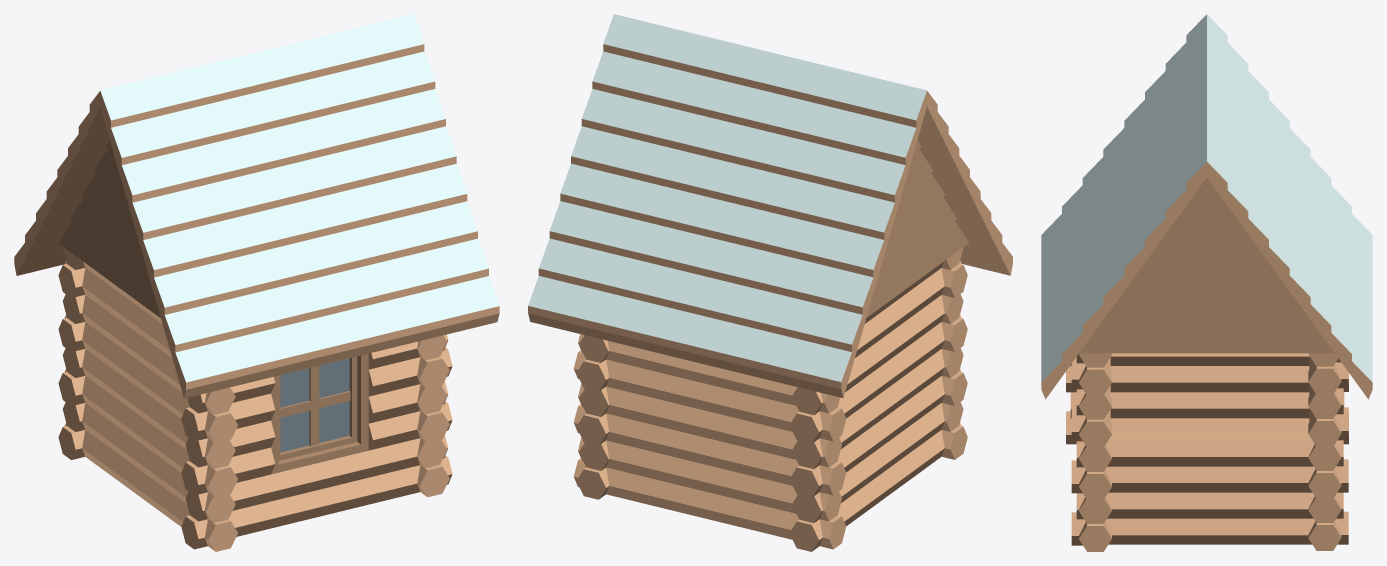
Rendered from cabin.fbx.
3 renders of one model, left to right at view 1: azimuth 30°, elevation 25°; view 2: azimuth 150°, elevation 25°; view 3: azimuth 270°, elevation 25°, orthographic. The views are drawn at different scales.
Parts seen in each view (by area): view 1: cabinRoofCenter.001, cabinWall.003, cabinWindow.001, frame, cabinCorner.005, cabinSideCenter.003, cabinCorner.006, cabinCorner.007; view 2: cabinRoofCenter.001, cabinWall.002, cabinWall.003, cabinCorner.007, cabinSideCenter.003, cabinCorner, cabinCorner.005; view 3: cabinRoofCenter.001, cabinSideCenter, cabinWallHalf.001, cabinWall.003, cabinCorner.006, cabinCorner, cabinCorner.005.
Boxes of the visible parts, left/top/right/bottom form: cabinRoofCenter.001: left=14, top=14, right=499, bottom=398; cabinWall.003: left=82, top=261, right=189, bottom=526; cabinWindow.001: left=228, top=341, right=420, bottom=536; frame: left=271, top=353, right=368, bottom=474; cabinCorner.005: left=181, top=387, right=237, bottom=551; cabinSideCenter.003: left=58, top=140, right=160, bottom=317; cabinCorner.006: left=417, top=334, right=452, bottom=497; cabinCorner.007: left=58, top=247, right=85, bottom=459; cabinRoofCenter.001: left=528, top=14, right=1012, bottom=397; cabinWall.002: left=606, top=341, right=798, bottom=539; cabinWall.003: left=838, top=261, right=944, bottom=526; cabinCorner.007: left=789, top=387, right=846, bottom=551; cabinSideCenter.003: left=866, top=140, right=968, bottom=317; cabinCorner: left=573, top=334, right=609, bottom=499; cabinCorner.005: left=941, top=247, right=967, bottom=459; cabinRoofCenter.001: left=1041, top=14, right=1372, bottom=399; cabinSideCenter: left=1079, top=177, right=1334, bottom=353; cabinWallHalf.001: left=1105, top=433, right=1315, bottom=544; cabinWall.003: left=1110, top=353, right=1309, bottom=433; cabinCorner.006: left=1071, top=353, right=1111, bottom=551; cabinCorner: left=1308, top=353, right=1348, bottom=550; cabinCorner.005: left=1066, top=364, right=1076, bottom=444.
Size of the model in its own units: 148 by 188 by 140.
